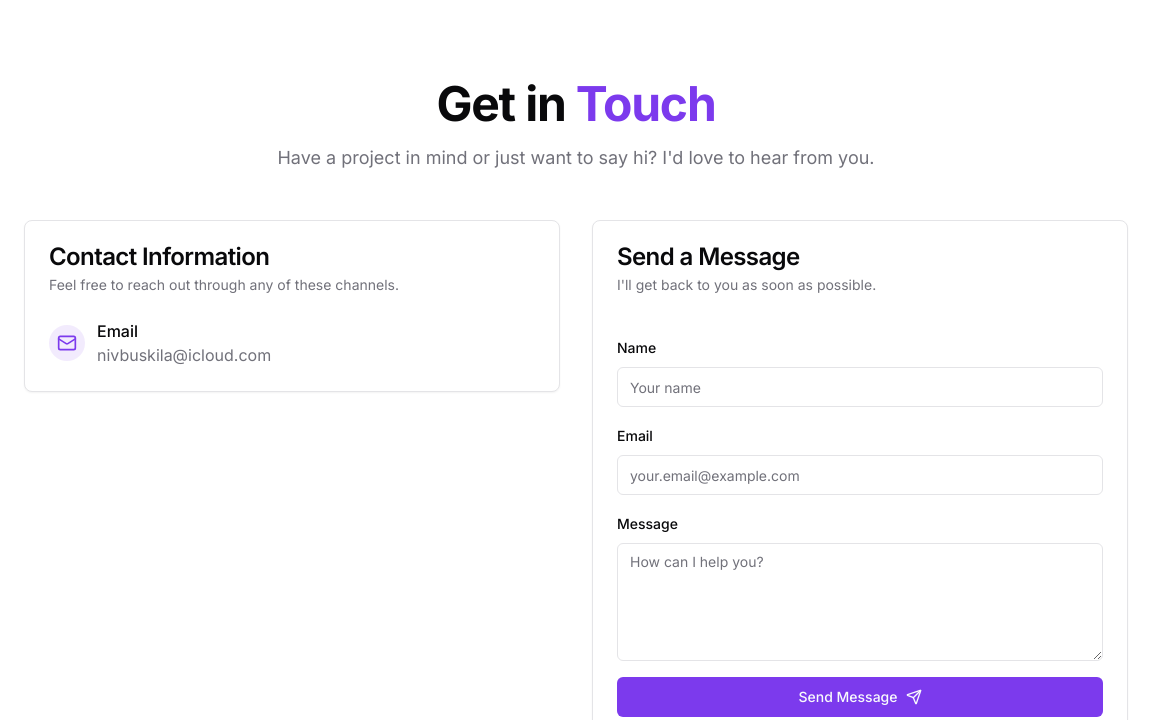
Test case: Contact › handles generic error
Type "John Doe" into the field labelled "Name".
click(860, 387); type("John Doe")  # box [617,367,1103,407]
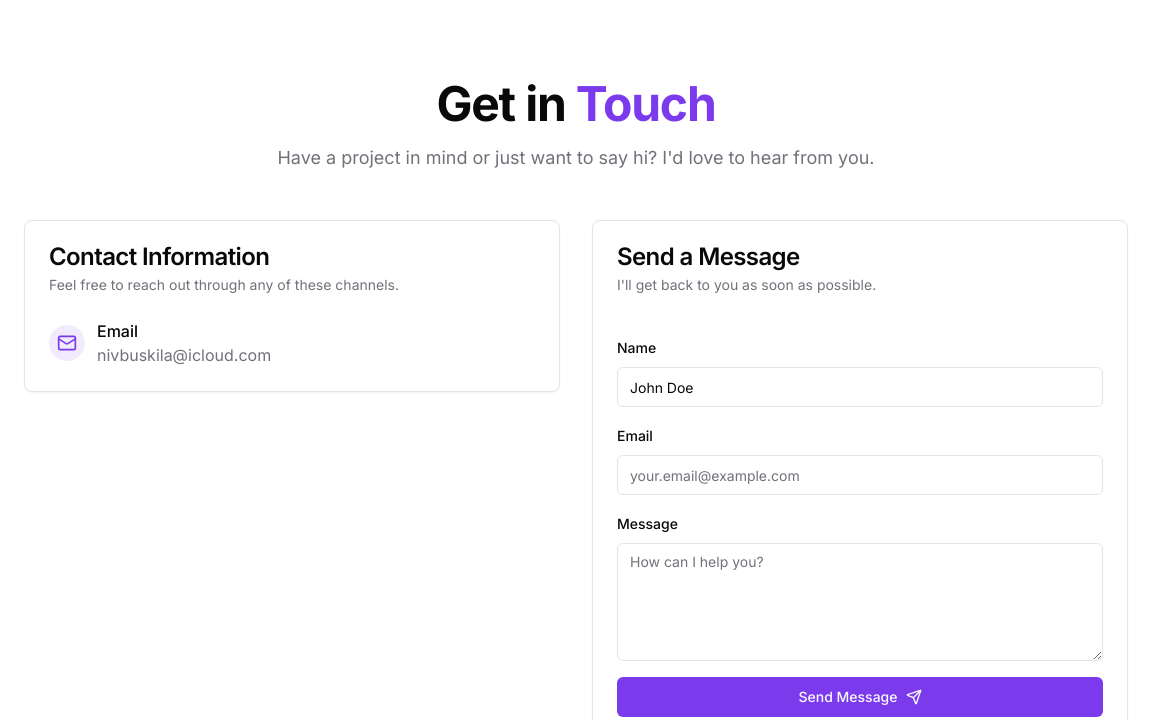
Type "john@example.com" into the field labelled "Email".
click(860, 475); type("john@example.com")  # box [617,455,1103,495]
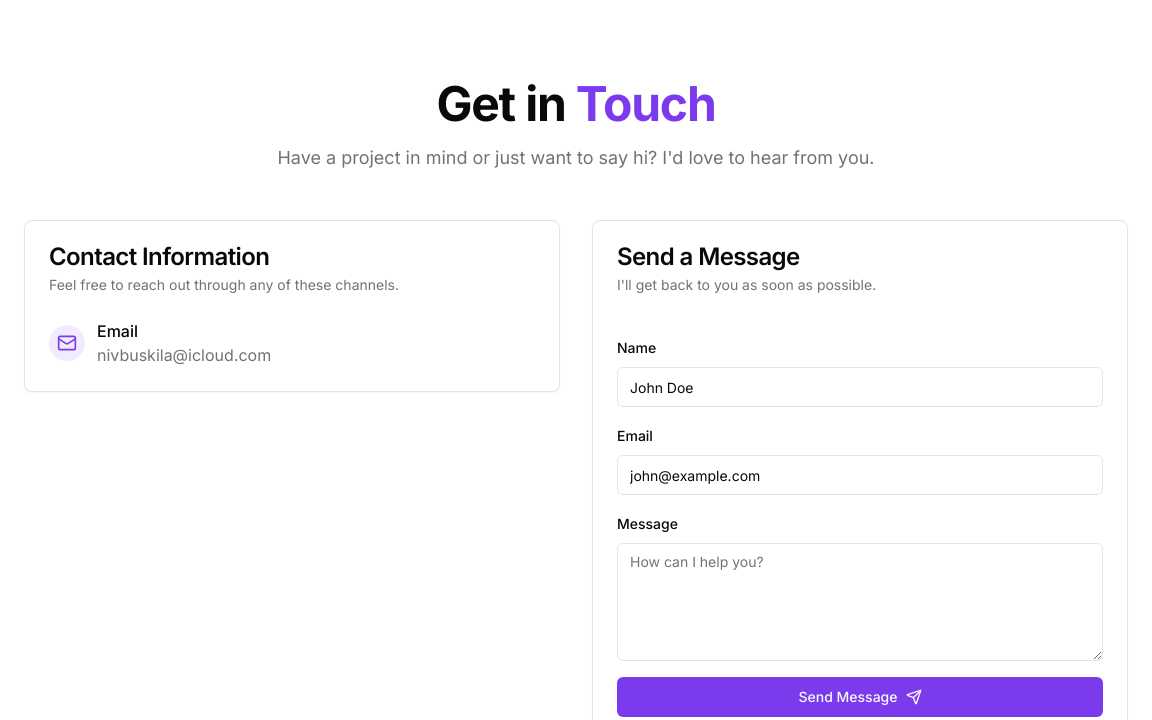
Type "This is a test message." into the text box labelled "Message".
click(860, 602); type("This is a test message.")  # box [617,543,1103,661]
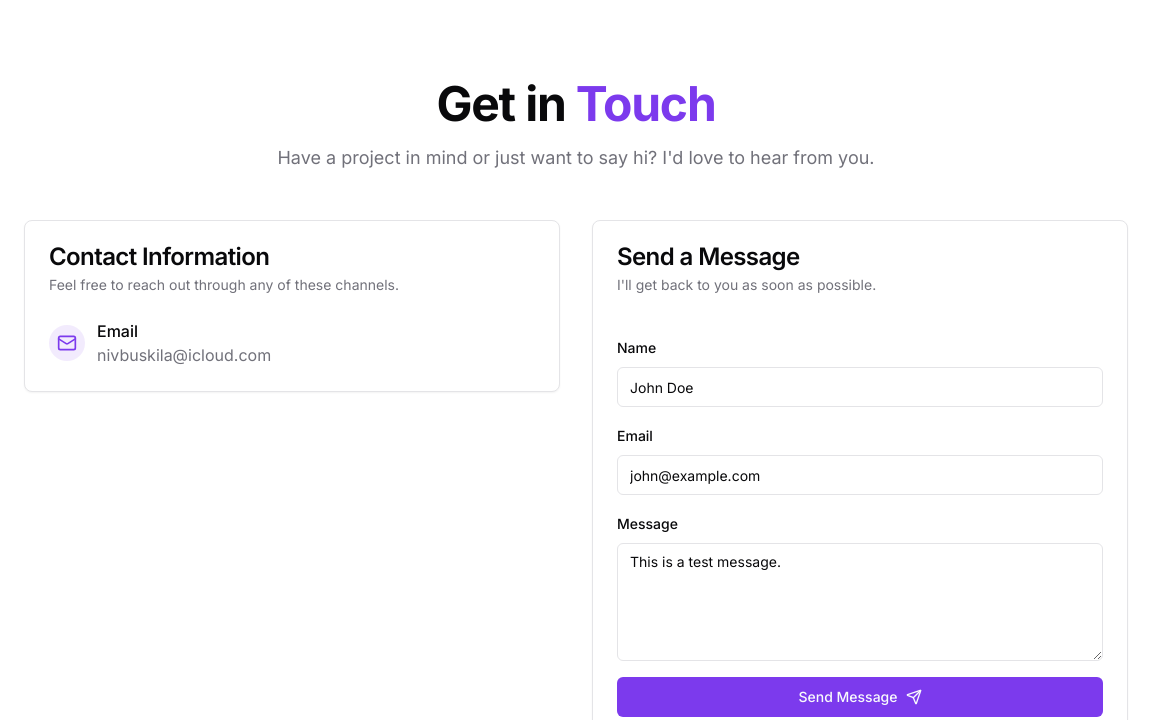
Click the button "Send Message".
click(860, 697)  # box [617,677,1103,717]
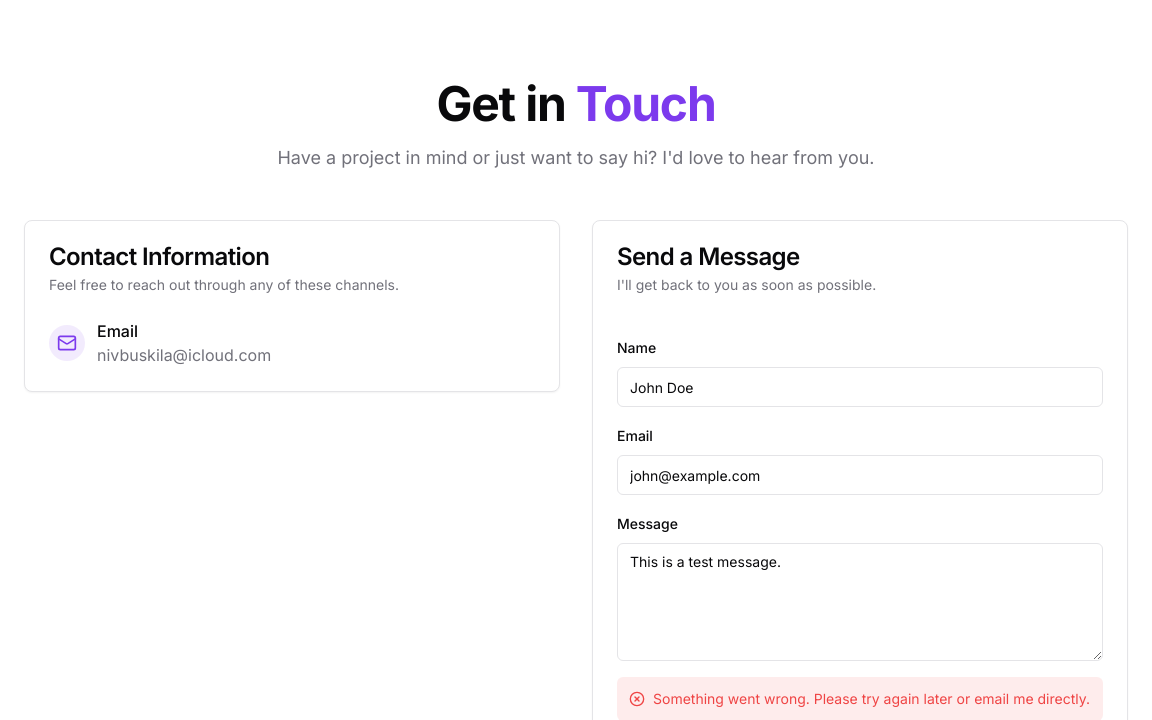
expect the text "Something went wrong" is shown: met, box [653,690,1090,707]
